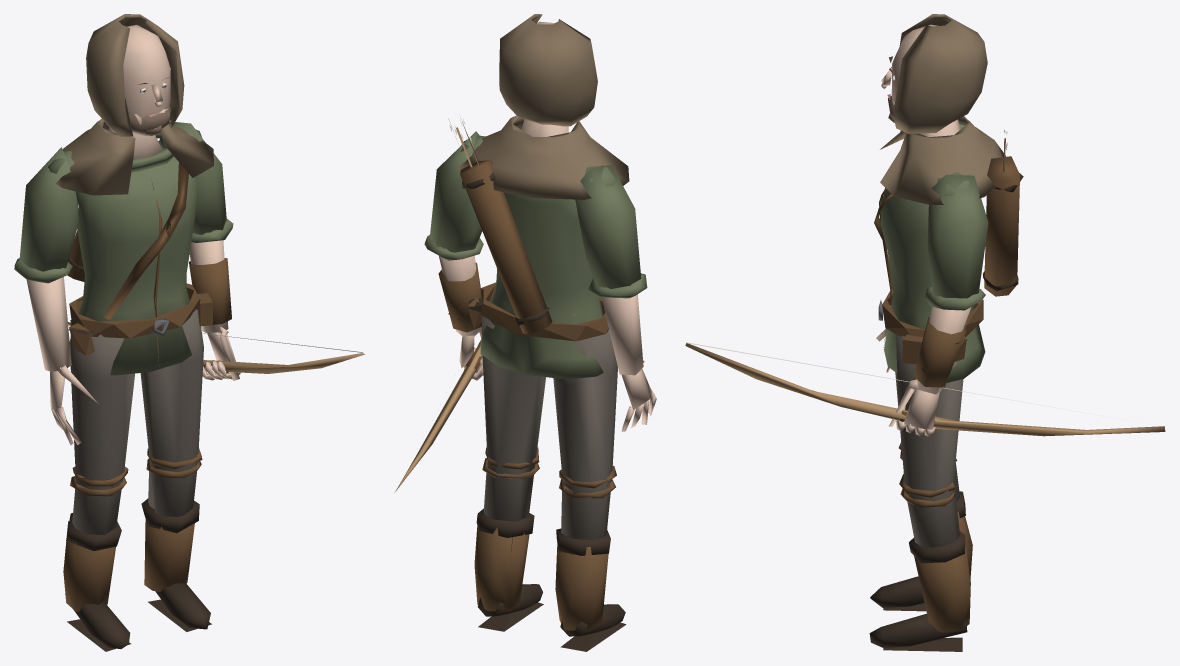
Rendered from human_leather.glb.
3 renders of one model, left to right at view 1: azimuth 30°, elevation 25°; view 2: azimuth 150°, elevation 25°; view 3: azimuth 270°, elevation 25°, orthographic. The views are drawn at different scales.
Visible parts, largest first — view 1: B_0d; view 2: B_0d; view 3: B_0d.
Boxes of the visible parts, x1,y1,x2,y2 form: B_0d: (14,14,364,651); B_0d: (395,14,656,651); B_0d: (685,14,1165,651).
Size of the model in its own units: 0.7108 by 1.91 by 1.37.
